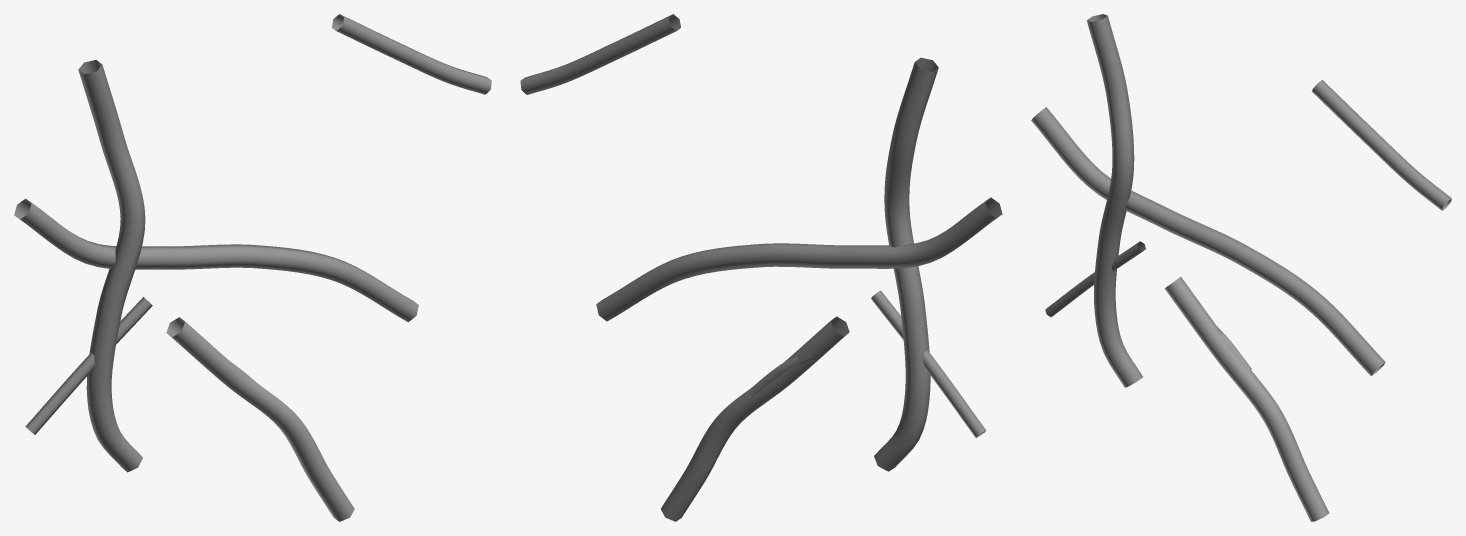
3 views of the same model, side by side, from view 1: azimuth 30°, elevation 25°; view 2: azimuth 150°, elevation 25°; view 3: azimuth 330°, elevation 25° (orthographic). The views are drawn at different scales.
Bounding box in the file's own units: 0.8352 × 0.8691 × 0.0596.
